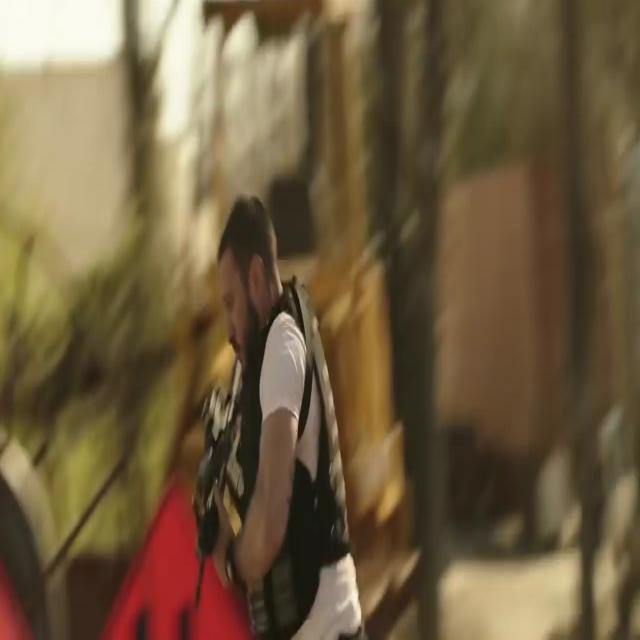Weapon: (200, 358, 270, 631)
